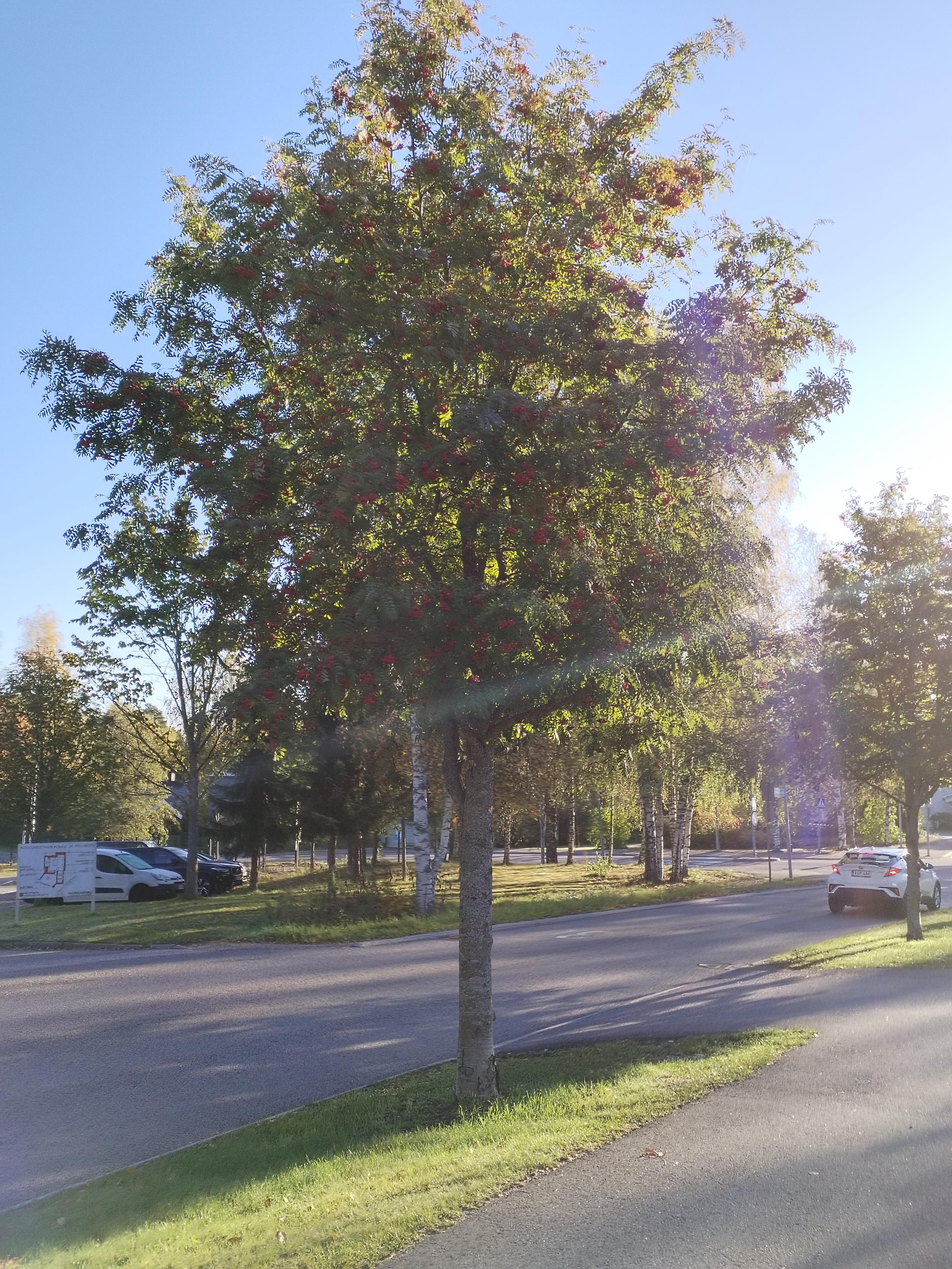Rowan: (137, 1, 819, 1134)
